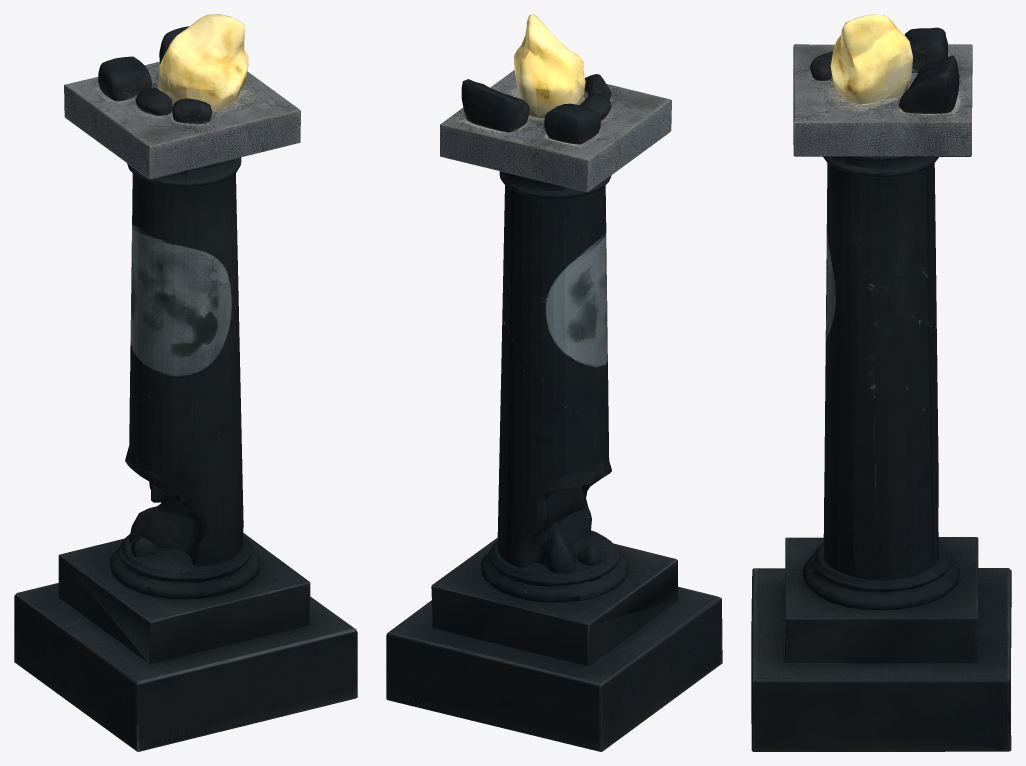
The model's file is ancient-pillar.glb.
The picture shows the model from 3 angles, left to right: view 1: azimuth 30°, elevation 25°; view 2: azimuth 150°, elevation 25°; view 3: azimuth 270°, elevation 25°; orthographic projection. The views are drawn at different scales.
Size of the model in its own units: 0.35 by 1 by 0.3403.
1 material, 1 textured.
